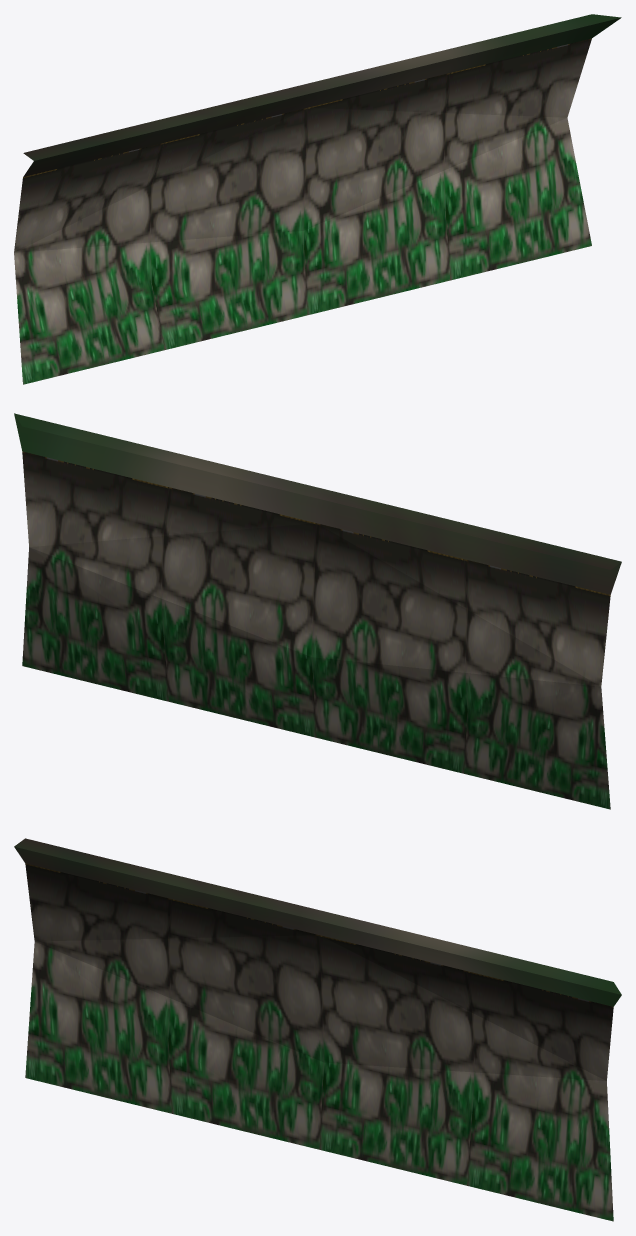
The model's file is W_A2r_xxxx [Hafen]_967.glb.
3 renders of one model, top to bottom at view 1: azimuth 30°, elevation 25°; view 2: azimuth 150°, elevation 25°; view 3: azimuth 330°, elevation 25°, orthographic. The views are drawn at different scales.
Parts seen in each view (by area): view 1: polySurfaceShape787, polySurfaceShape1065; view 2: polySurfaceShape787, polySurfaceShape1065; view 3: polySurfaceShape787, polySurfaceShape1065.
Boxes of the visible parts, x1,y1,x2,y2 form: polySurfaceShape787: [14, 38, 591, 384]; polySurfaceShape1065: [23, 14, 621, 176]; polySurfaceShape787: [22, 451, 610, 809]; polySurfaceShape1065: [14, 413, 621, 594]; polySurfaceShape787: [25, 863, 613, 1221]; polySurfaceShape1065: [14, 838, 621, 1006].
Bounding box in the file's own units: 1.03 × 0.3891 × 0.0607.
Materials: 2 (2 with a texture image).
